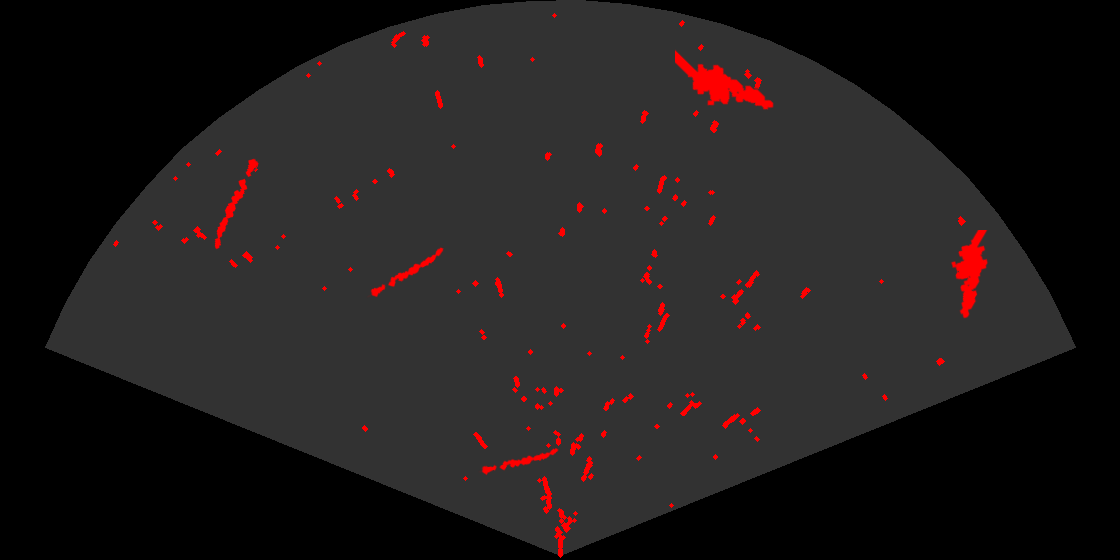chain: (213, 157, 260, 251), (366, 246, 445, 299), (478, 447, 560, 477)
frogman: (675, 48, 775, 111), (949, 230, 990, 320)
